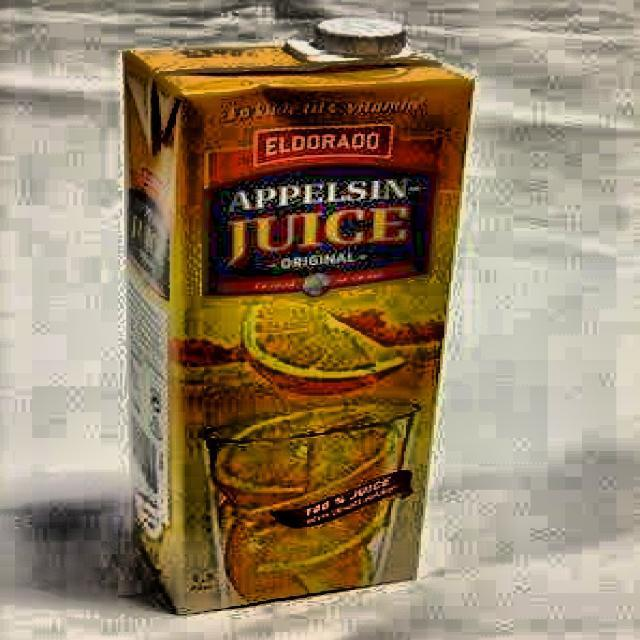cardboard: (120, 36, 475, 614)
